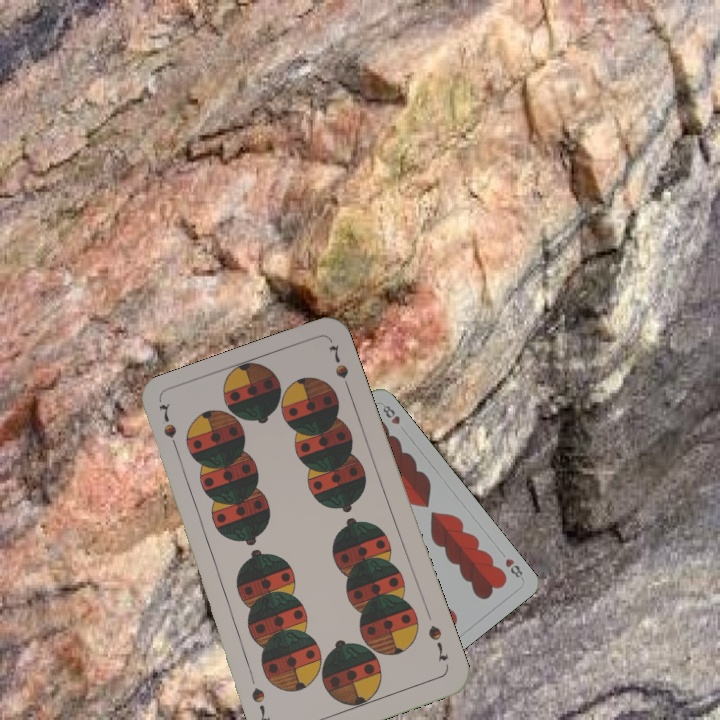H8: (501, 554, 526, 582)
S7: (424, 621, 451, 664), (159, 419, 183, 458)
